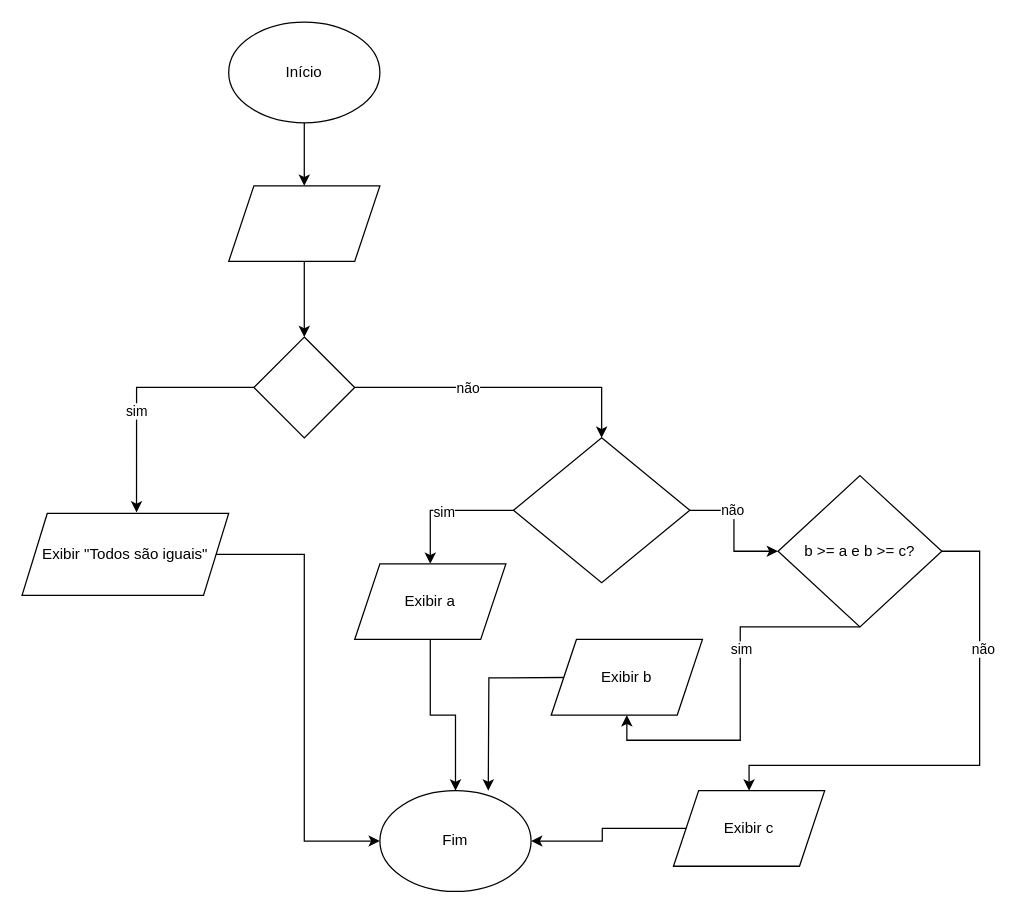
This 1016x914 diagram has some shape labels left out. The shapes that lost their labels are listed below. From the top down, each one's centre as x and y in pixels, then its label:
At point 303,223: "Ler a, b, c".
At point 304,387: "a = b = c?".
At point 601,510: "a >= b e a >= c?".
